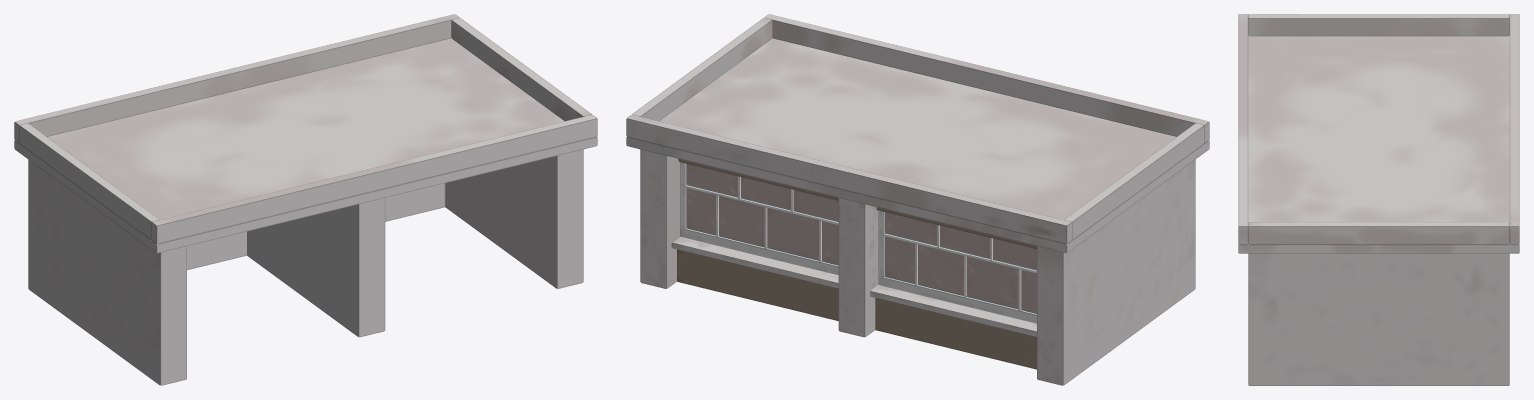
The model's file is AptBuilding01_Top.fbx.
3 renders of one model, left to right at view 1: azimuth 30°, elevation 25°; view 2: azimuth 150°, elevation 25°; view 3: azimuth 270°, elevation 25°, orthographic.
Parts seen in each view (by area): view 1: cuboid_33, cuboid_2, cuboid_3, cuboid_1, cuboid_35, cuboid_34, cuboid_37, cuboid_36, cuboid_4, cuboid_31; view 2: cuboid_33, cuboid_2, cuboid_34, cuboid_35, cuboid_28, cuboid_32, cuboid_31, cuboid_4, cuboid_3, cuboid_1, cuboid_37, cuboid_36 (+8 smaller); view 3: cuboid_33, cuboid_1, cuboid_36, cuboid_37, cuboid_34, cuboid_35.
Boxes of the visible parts, x1,y1,x2,y2 form: cuboid_33: (14, 38, 597, 253); cuboid_2: (28, 159, 186, 385); cuboid_3: (247, 198, 385, 337); cuboid_1: (445, 149, 583, 288); cuboid_35: (151, 115, 597, 243); cuboid_34: (14, 14, 459, 143); cuboid_37: (19, 123, 159, 239); cuboid_36: (451, 18, 591, 121); cuboid_4: (385, 183, 445, 221); cuboid_31: (187, 231, 246, 270); cuboid_33: (626, 38, 1209, 253); cuboid_2: (1037, 159, 1195, 385); cuboid_34: (626, 115, 1072, 243); cuboid_35: (764, 14, 1209, 143); cuboid_28: (884, 212, 1036, 313); cuboid_32: (686, 163, 838, 265); cuboid_31: (875, 298, 1036, 369); cuboid_4: (677, 249, 838, 320); cuboid_3: (838, 198, 878, 337); cuboid_1: (640, 149, 679, 288); cuboid_37: (1064, 123, 1204, 239); cuboid_36: (632, 18, 772, 121); cuboid_33: (1238, 36, 1519, 253); cuboid_1: (1248, 253, 1509, 385); cuboid_36: (1248, 222, 1509, 244); cuboid_37: (1248, 14, 1509, 36); cuboid_34: (1509, 14, 1519, 244); cuboid_35: (1238, 14, 1248, 244).
Size of the model in its own units: 312 by 112 by 175.
Materials: 1 (1 with a texture image).
